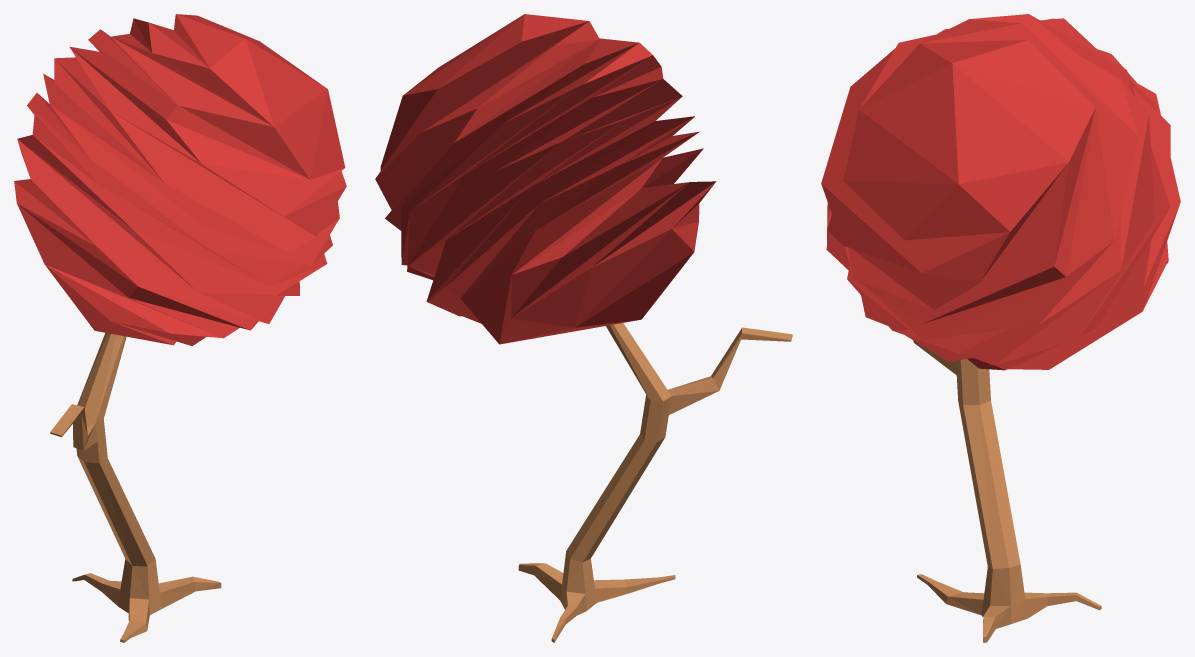
Rendered from world_3_tree_3.dae.
3 views of the same model, side by side, from view 1: azimuth 30°, elevation 25°; view 2: azimuth 150°, elevation 25°; view 3: azimuth 270°, elevation 25° (orthographic). The views are drawn at different scales.
Parts seen in each view (by area): view 1: world_3_tree_3_leaves, world_3_tree_3_base; view 2: world_3_tree_3_leaves, world_3_tree_3_base; view 3: world_3_tree_3_leaves, world_3_tree_3_base.
Boxes of the visible parts, left/top/right/bottom form: world_3_tree_3_leaves: left=14, top=14, right=346, bottom=345; world_3_tree_3_base: left=50, top=333, right=221, bottom=642; world_3_tree_3_leaves: left=375, top=14, right=716, bottom=344; world_3_tree_3_base: left=518, top=323, right=792, bottom=642; world_3_tree_3_leaves: left=821, top=14, right=1180, bottom=370; world_3_tree_3_base: left=913, top=340, right=1101, bottom=642.
Bounding box in the file's own units: 4.28 × 3.79 × 7.03.
